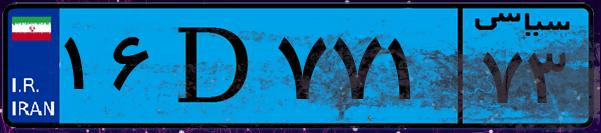1: (385, 28, 445, 110), (57, 26, 110, 100)
3: (525, 38, 570, 115)
6: (110, 28, 158, 98)
7: (270, 28, 330, 110), (330, 28, 385, 110), (475, 38, 525, 113)
D: (158, 12, 270, 120)
